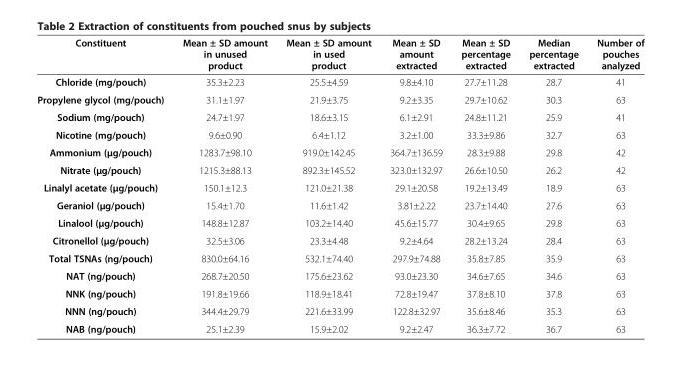table: (36, 36, 643, 334)
table column: (36, 36, 172, 334), (172, 36, 276, 334), (276, 36, 379, 334), (379, 36, 451, 334), (451, 36, 519, 334), (519, 36, 587, 334), (587, 36, 643, 334)
table column header: (36, 36, 643, 73)
table row: (36, 36, 643, 73), (36, 90, 643, 108), (36, 142, 643, 160), (36, 160, 643, 178), (36, 195, 643, 213), (36, 213, 643, 231), (36, 231, 643, 249), (36, 266, 643, 284), (36, 284, 643, 302), (36, 73, 643, 90), (36, 108, 643, 125), (36, 125, 643, 142), (36, 178, 643, 195), (36, 249, 643, 266), (36, 302, 643, 319), (36, 319, 643, 334)
